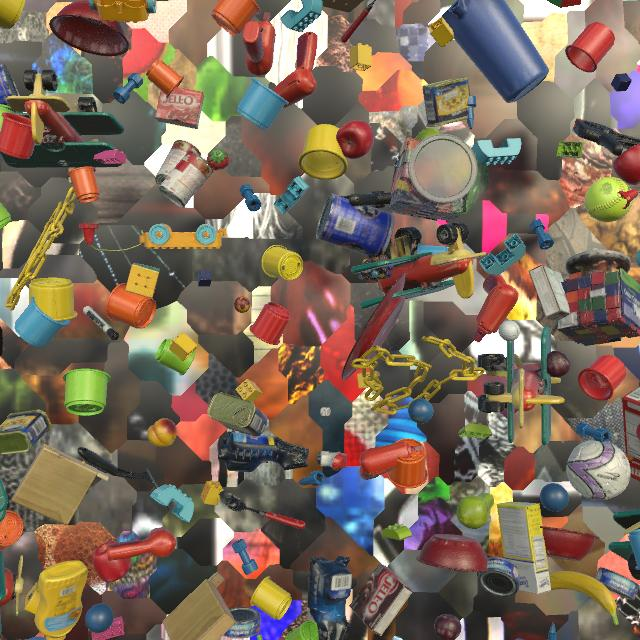ycb_002_master_chef_can: (316, 193, 395, 255), (0, 63, 20, 112)
ycb_003_cracker_box: (622, 386, 640, 481)
ycb_004_sugar_box: (497, 502, 551, 594)
ycb_005_tomato_soup_can: (159, 150, 214, 208), (155, 140, 201, 186)
ycb_006_mustard_bottle: (35, 560, 88, 640)
ycb_007_tuna_fish_can: (478, 557, 520, 597), (595, 567, 639, 601), (223, 607, 261, 639)
ycb_008_pudding_box: (349, 564, 413, 636), (529, 265, 570, 322)
ycb_009_gelatin_box: (155, 87, 204, 129)
ycb_010_potted_meat_can: (422, 76, 475, 127), (207, 393, 268, 437), (0, 409, 52, 455), (156, 0, 170, 1)
ycb_011_banana: (549, 571, 619, 626), (257, 635, 263, 640)
ycb_012_strawberry: (207, 149, 229, 170)
ycb_013_apple: (93, 541, 132, 583), (336, 120, 374, 159), (613, 145, 640, 185), (636, 423, 640, 441)
ycb_015_peach: (147, 418, 177, 447)
ycb_016_pear: (456, 493, 494, 529), (415, 128, 442, 140), (607, 272, 610, 273)
ycb_018_plum: (434, 614, 461, 640), (546, 351, 571, 378)
